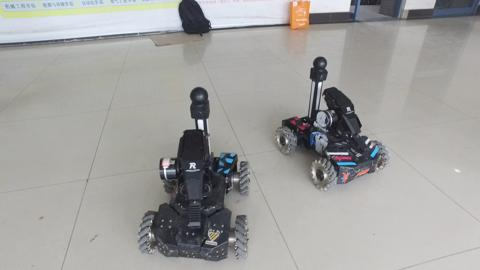chariot: (131, 82, 264, 264), (269, 55, 394, 195)
